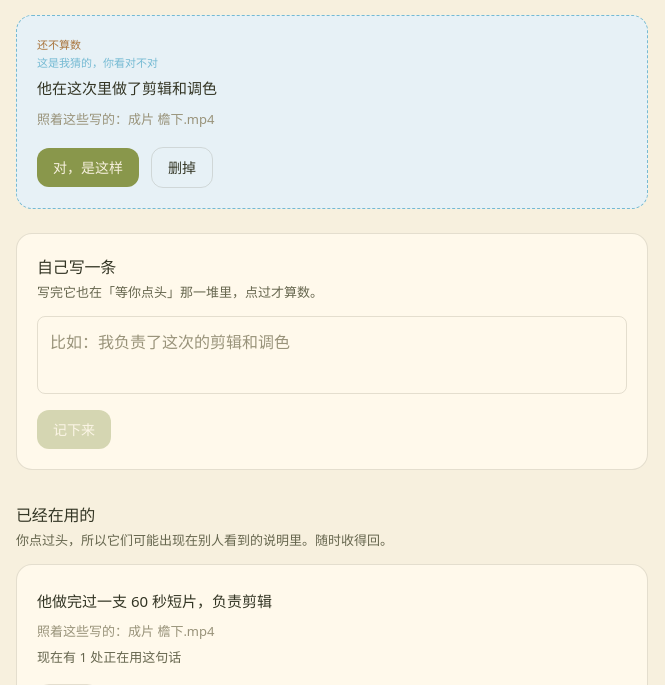
等你点头 › 自己写一条，写完它也在等你点头那一堆里
This screenshot has width=665, height=685.
(page scrolled)
Step 1. Type "我负责了这次的剪辑" into the text box named "你想记下什么？" → [332, 355], box [37,316,627,394]
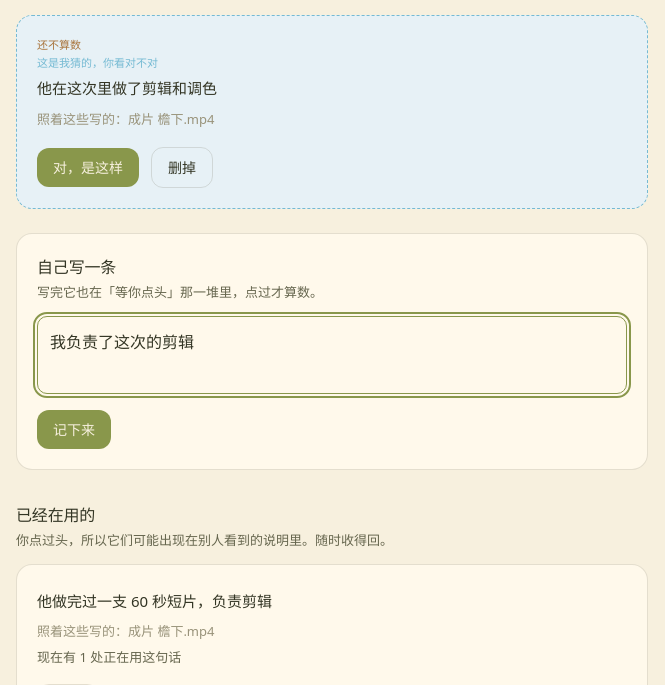
Step 2. Click the button "记下来" → [74, 429], box [37,410,111,449]
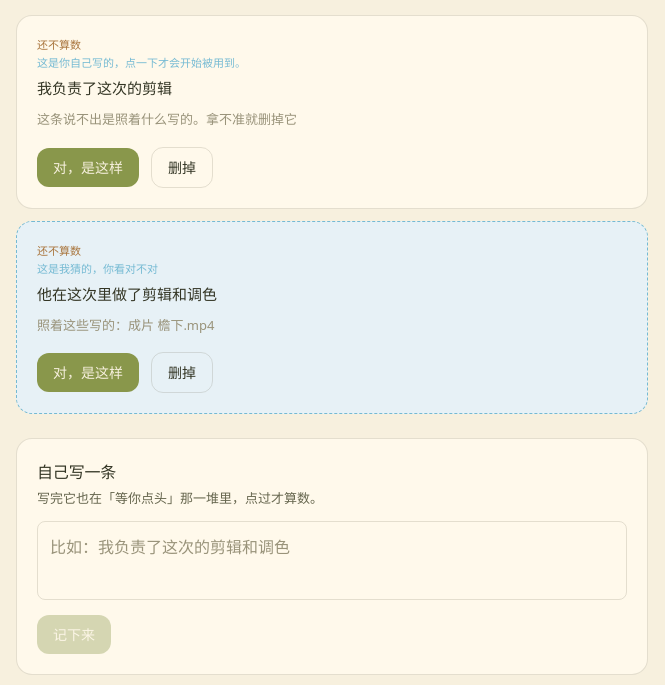
Expected: the 1st text "还不算数" is shown, [37,37,81,52]
Expected: the element "我负责了这次的剪辑" is shown, [16,15,648,209]
